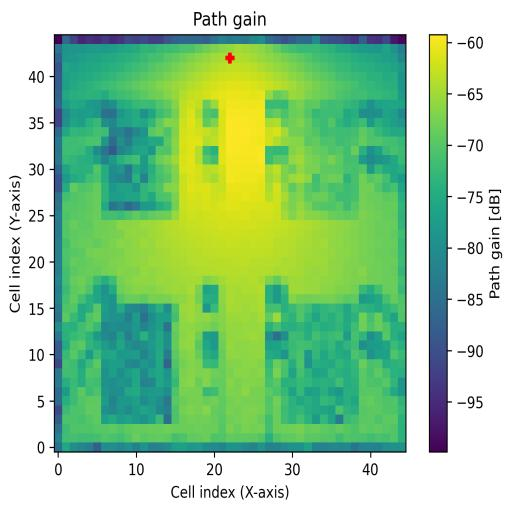Concrete: (281, 100, 359, 220)
Glass: (100, 100, 178, 220)
Metal: (282, 302, 359, 424)
Wood: (101, 304, 172, 425)
